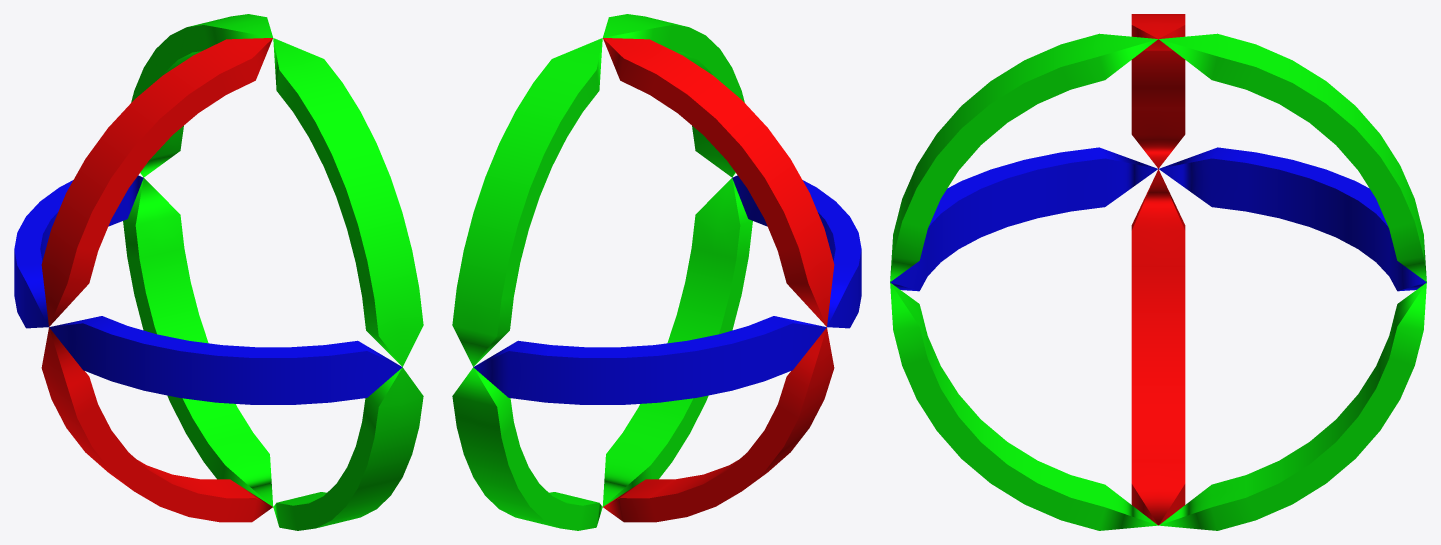
Rendered from Rotation.fbx.
The picture shows the model from 3 angles, left to right: view 1: azimuth 30°, elevation 25°; view 2: azimuth 150°, elevation 25°; view 3: azimuth 270°, elevation 25°; orthographic projection. The views are drawn at different scales.
Visible parts, largest first — view 1: Trans_02 - Default_0.017; view 2: Trans_02 - Default_0.017; view 3: Trans_02 - Default_0.017.
Boxes of the visible parts, x1,y1,x2,y2 form: Trans_02 - Default_0.017: [14, 14, 423, 530]; Trans_02 - Default_0.017: [452, 14, 861, 530]; Trans_02 - Default_0.017: [890, 14, 1426, 530].
Size of the model in its own units: 7874 by 4331 by 7874.
